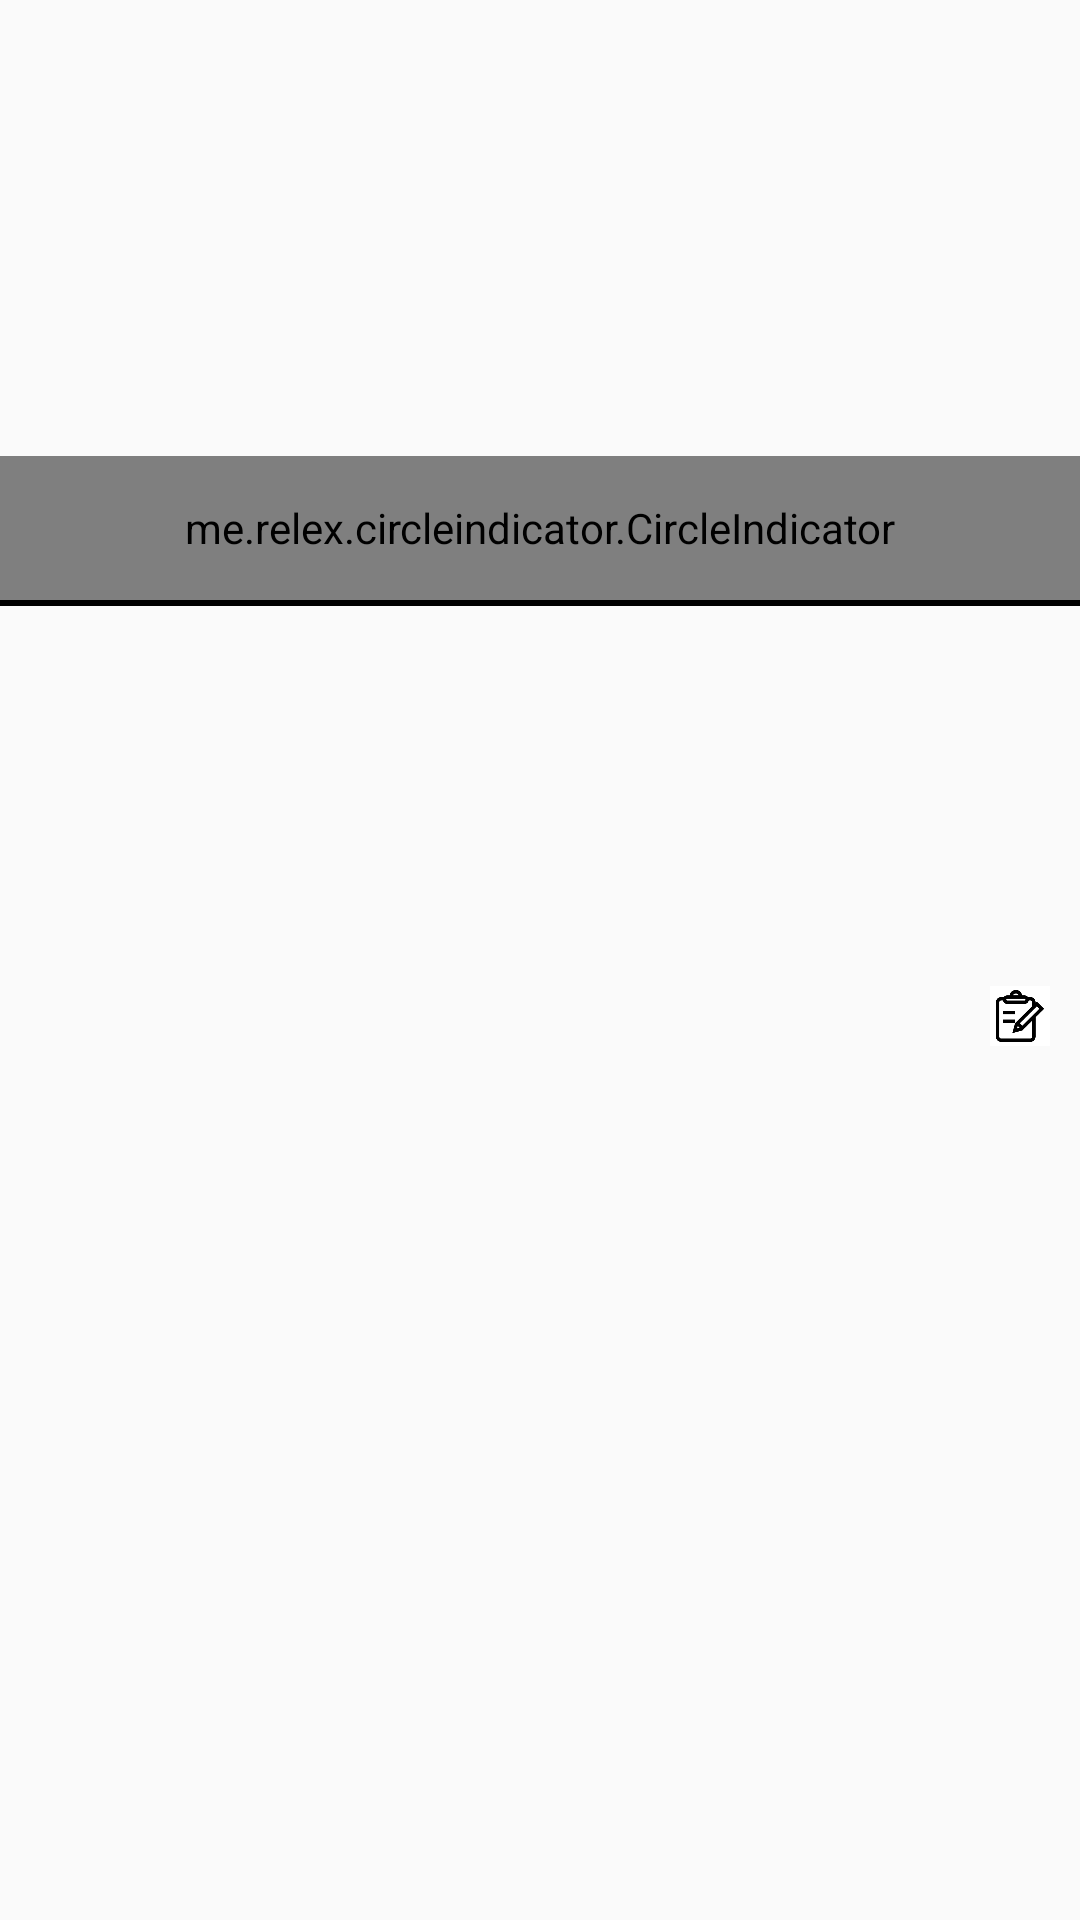

Where icons sit on this 1080×1920 app screen, as (x1, y1, x2, y2):
description: (996, 990, 1044, 1042)
